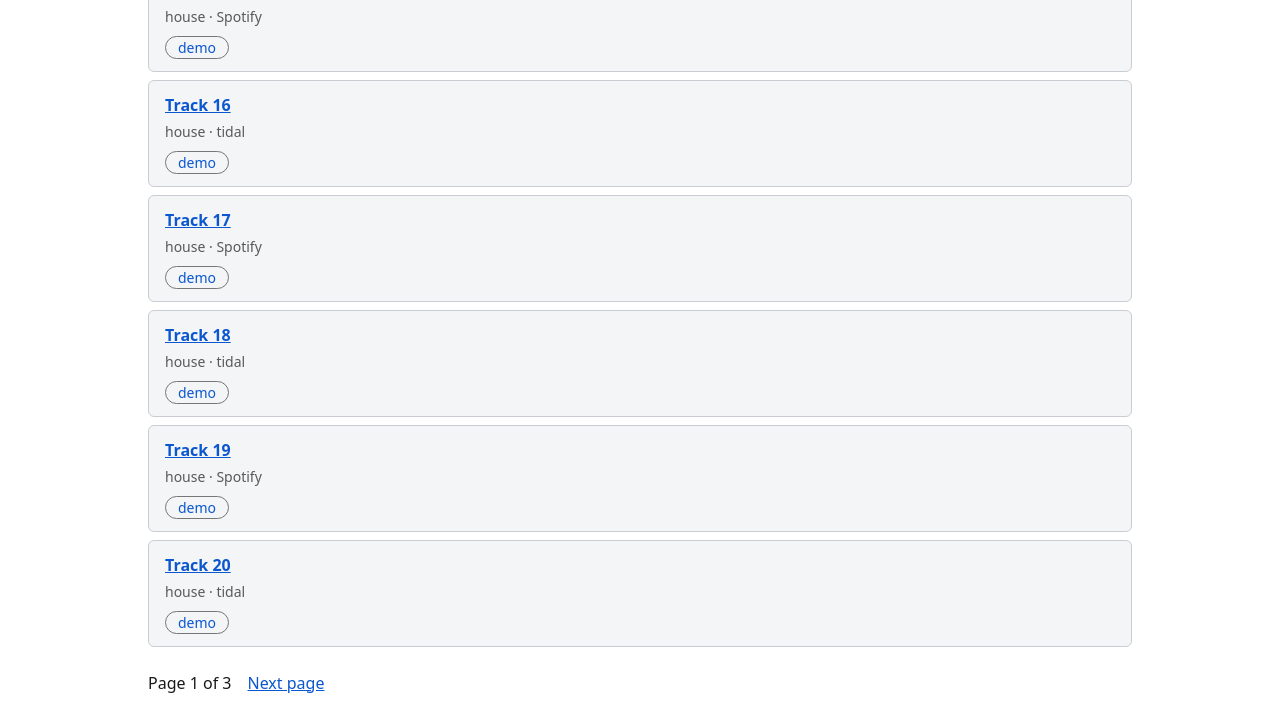
Test: paging › links to the next page and keeps the filters
(page scrolled)
Expected: the text "Page 1 of 3" is shown, [148,671,232,695]
Expected: the link "Previous page" is not shown
Click the link "Next page" at [286, 683], box [248,671,324,695]
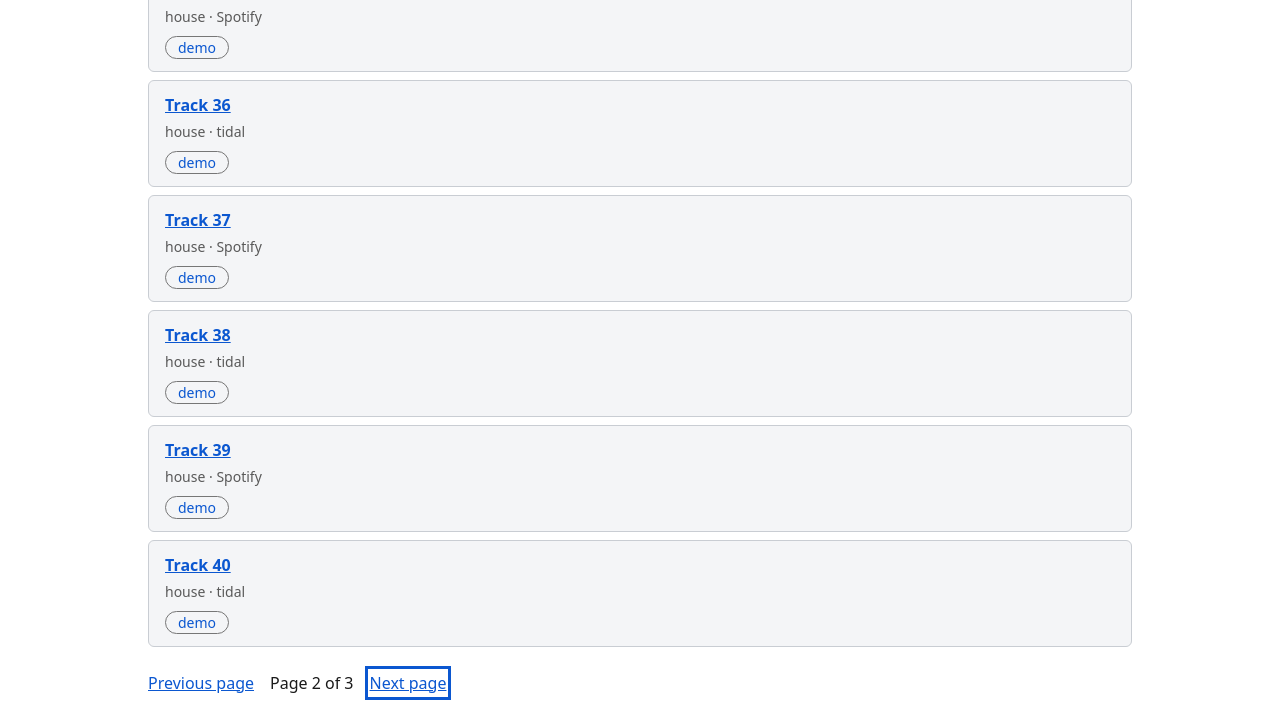
Expected: the text "Page 2 of 3" is shown, [270,671,354,695]
